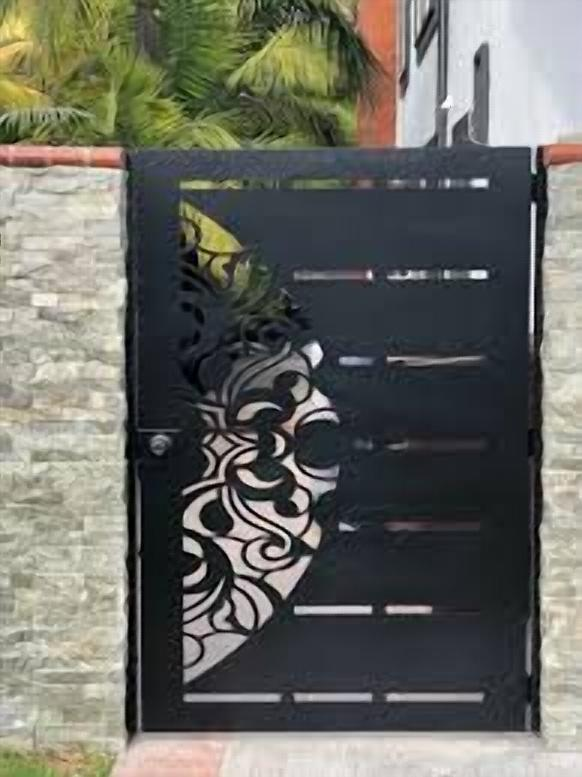Gate: (125, 145, 549, 738)
